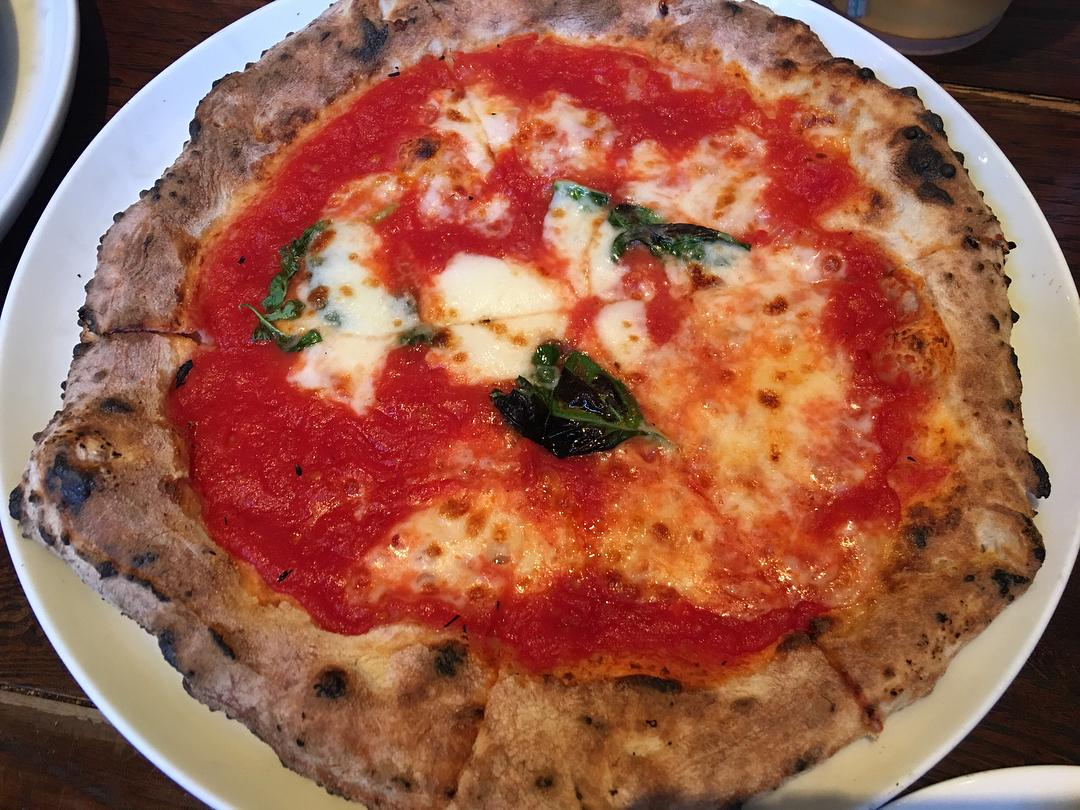Basil: (507, 345, 643, 461), (616, 205, 728, 264), (266, 226, 315, 346)
Cheese: (317, 184, 379, 399), (444, 262, 550, 368), (452, 103, 609, 163)
Pizza: (61, 0, 1025, 810)
